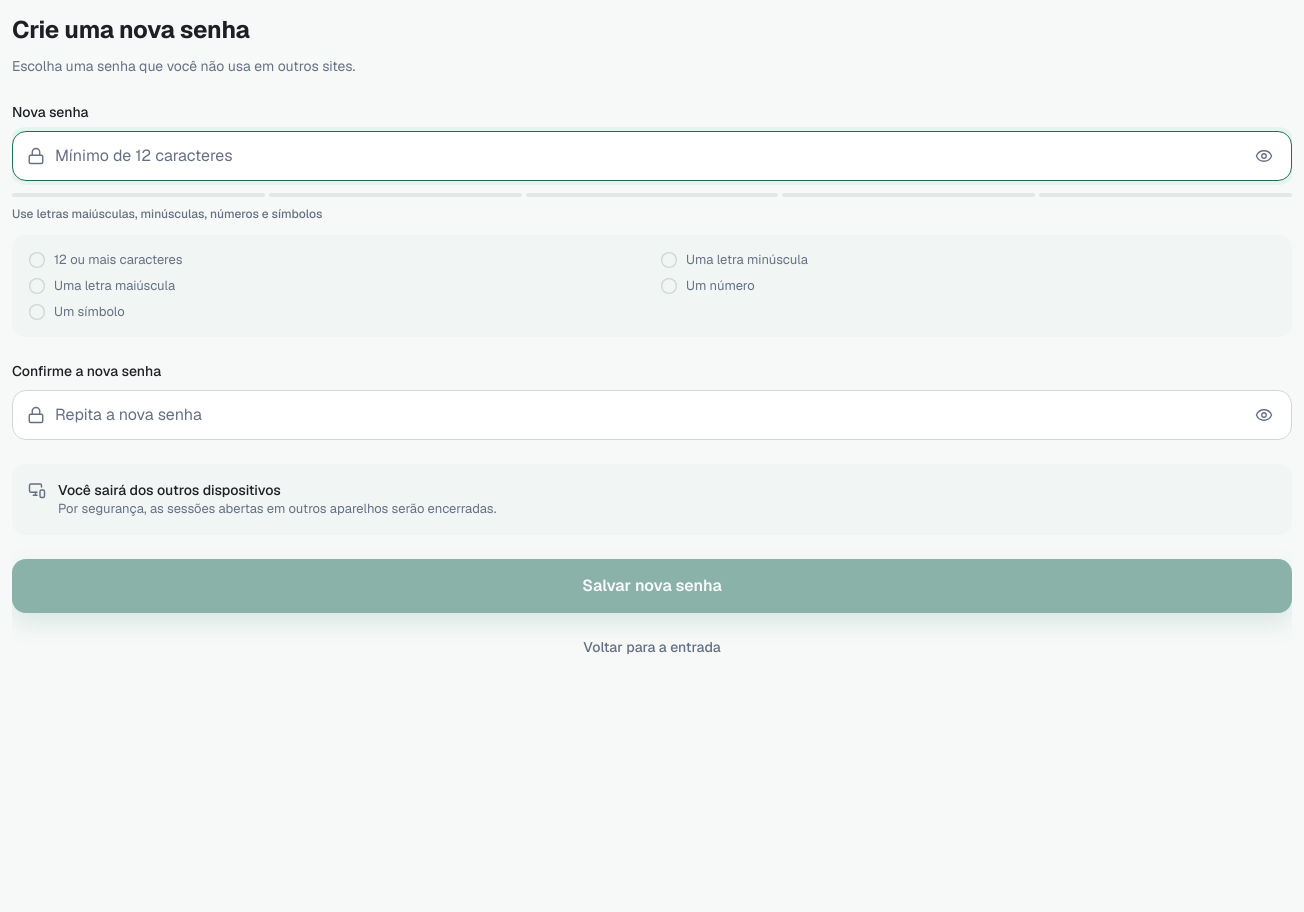
Test case: ResetPasswordForm › aponta a coincidência das senhas enquanto são digitadas
The width and height of the screenshot is (1304, 912).
Expected: the text "As senhas coincidem" is not shown
Type "NovaSenha@123" into the password field labelled "Nova senha" at (645, 156), box [55,132,1235,180]
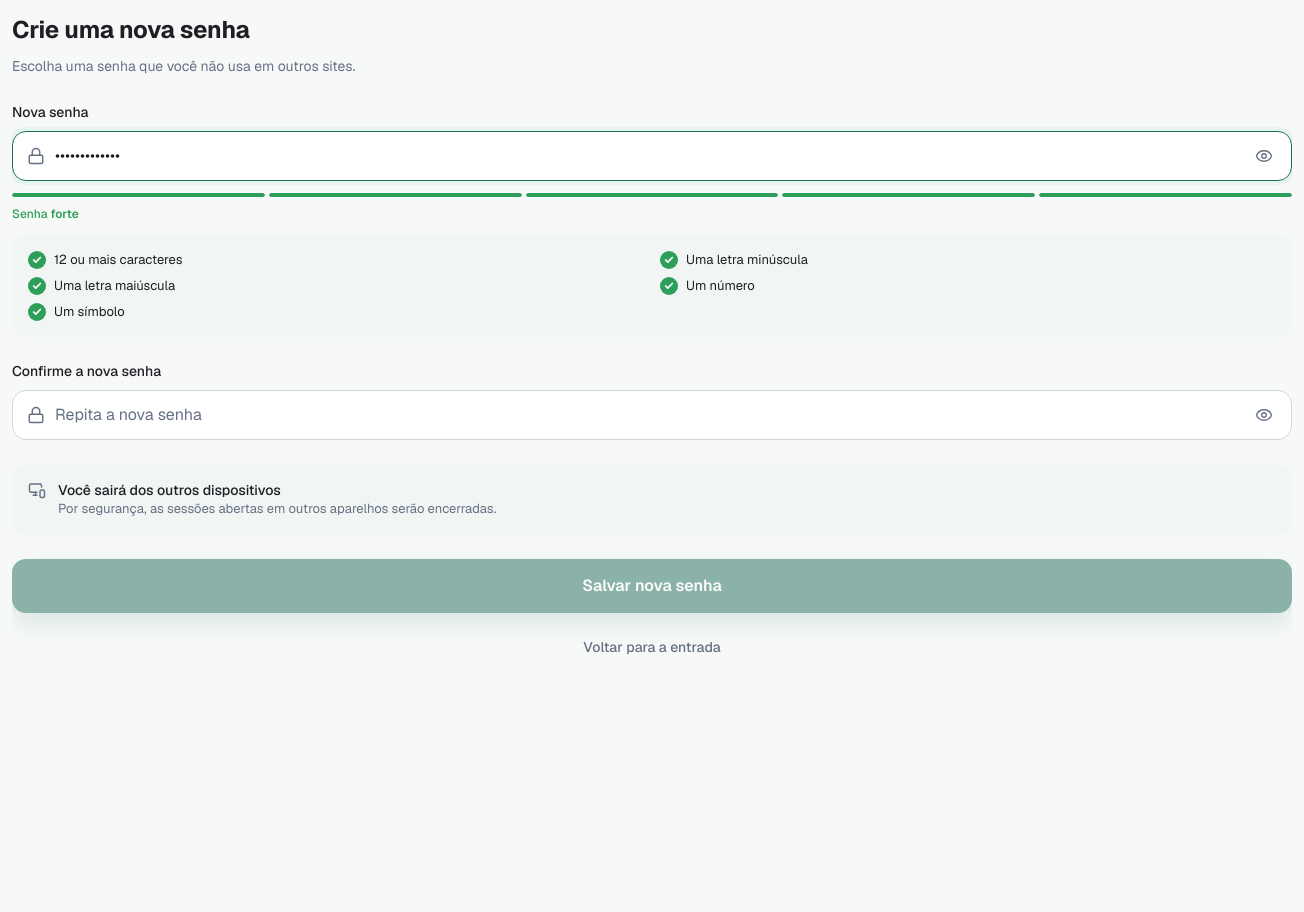
Type "Outra" into the password field labelled "Confirme a nova senha" at (645, 415), box [55,391,1235,439]
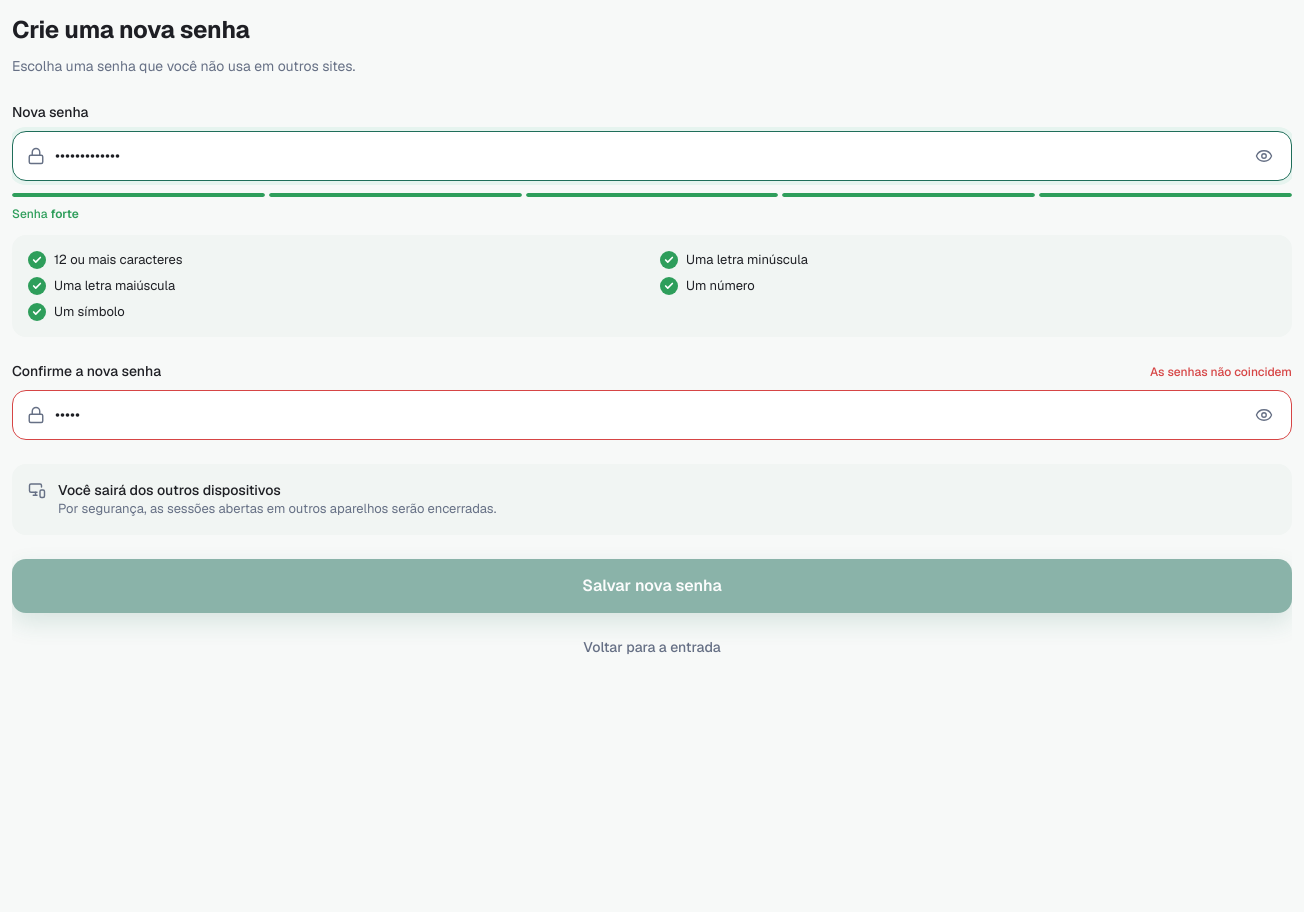
Expected: the text "As senhas não coincidem" is shown, [1150,363,1292,381]
Type "NovaSenha@123" into the password field labelled "Confirme a nova senha" at (645, 415), box [55,391,1235,439]
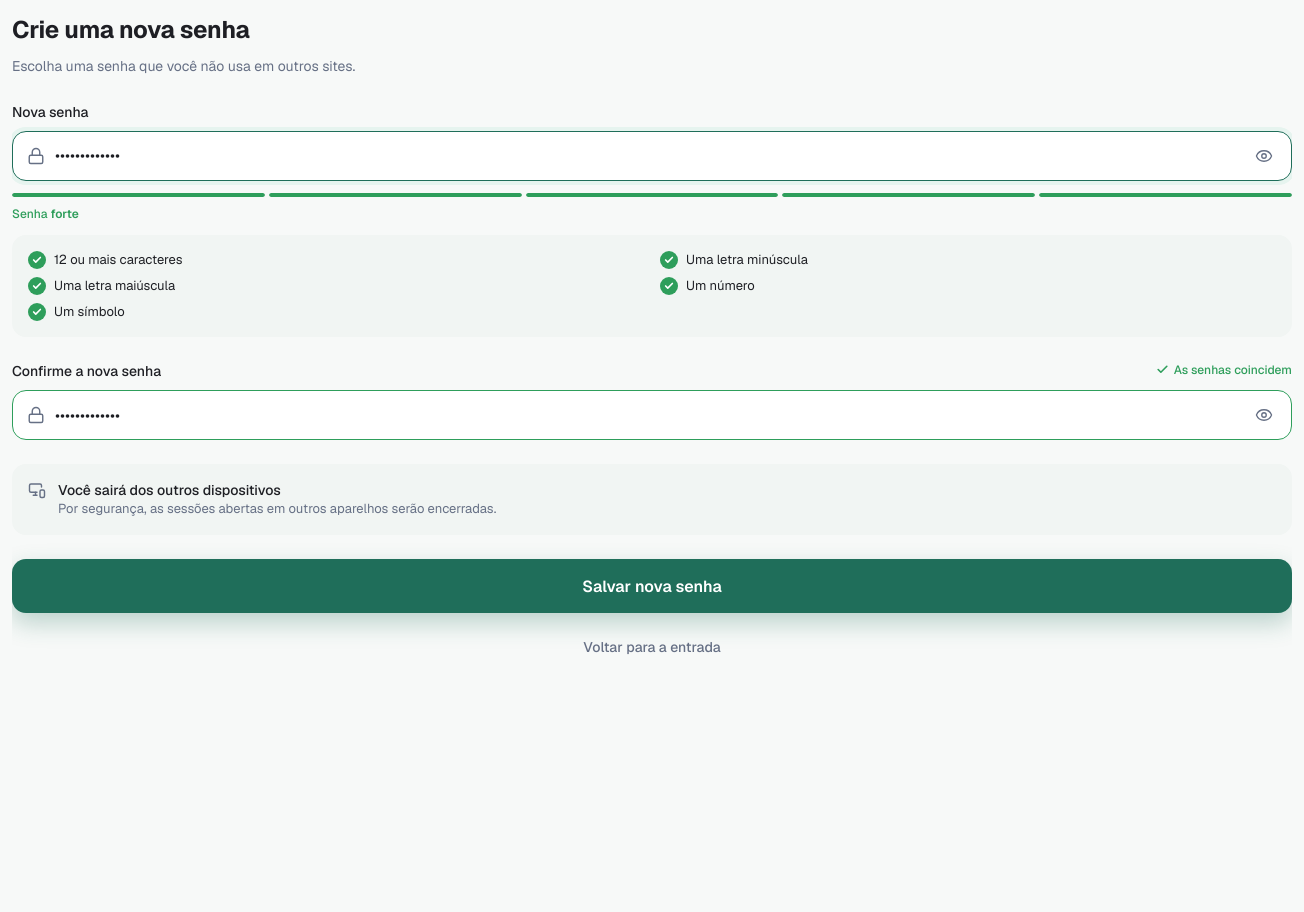
Expected: the text "As senhas coincidem" is shown, [1156,361,1292,379]
